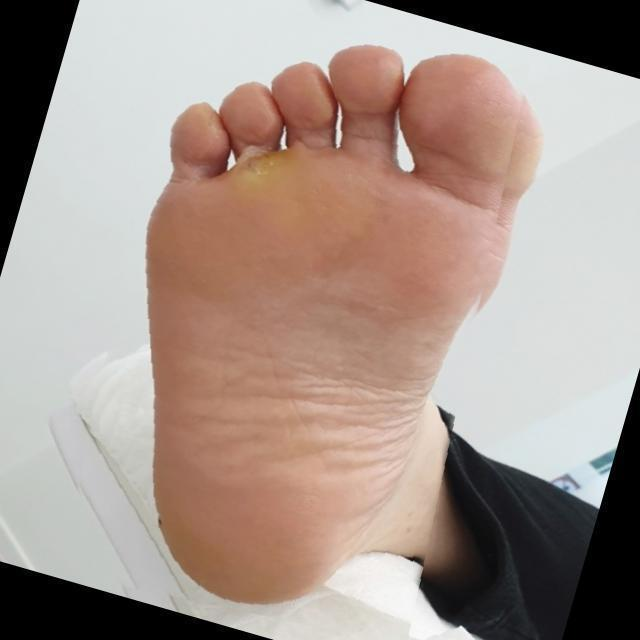No_Shoes: (129, 54, 537, 600)
